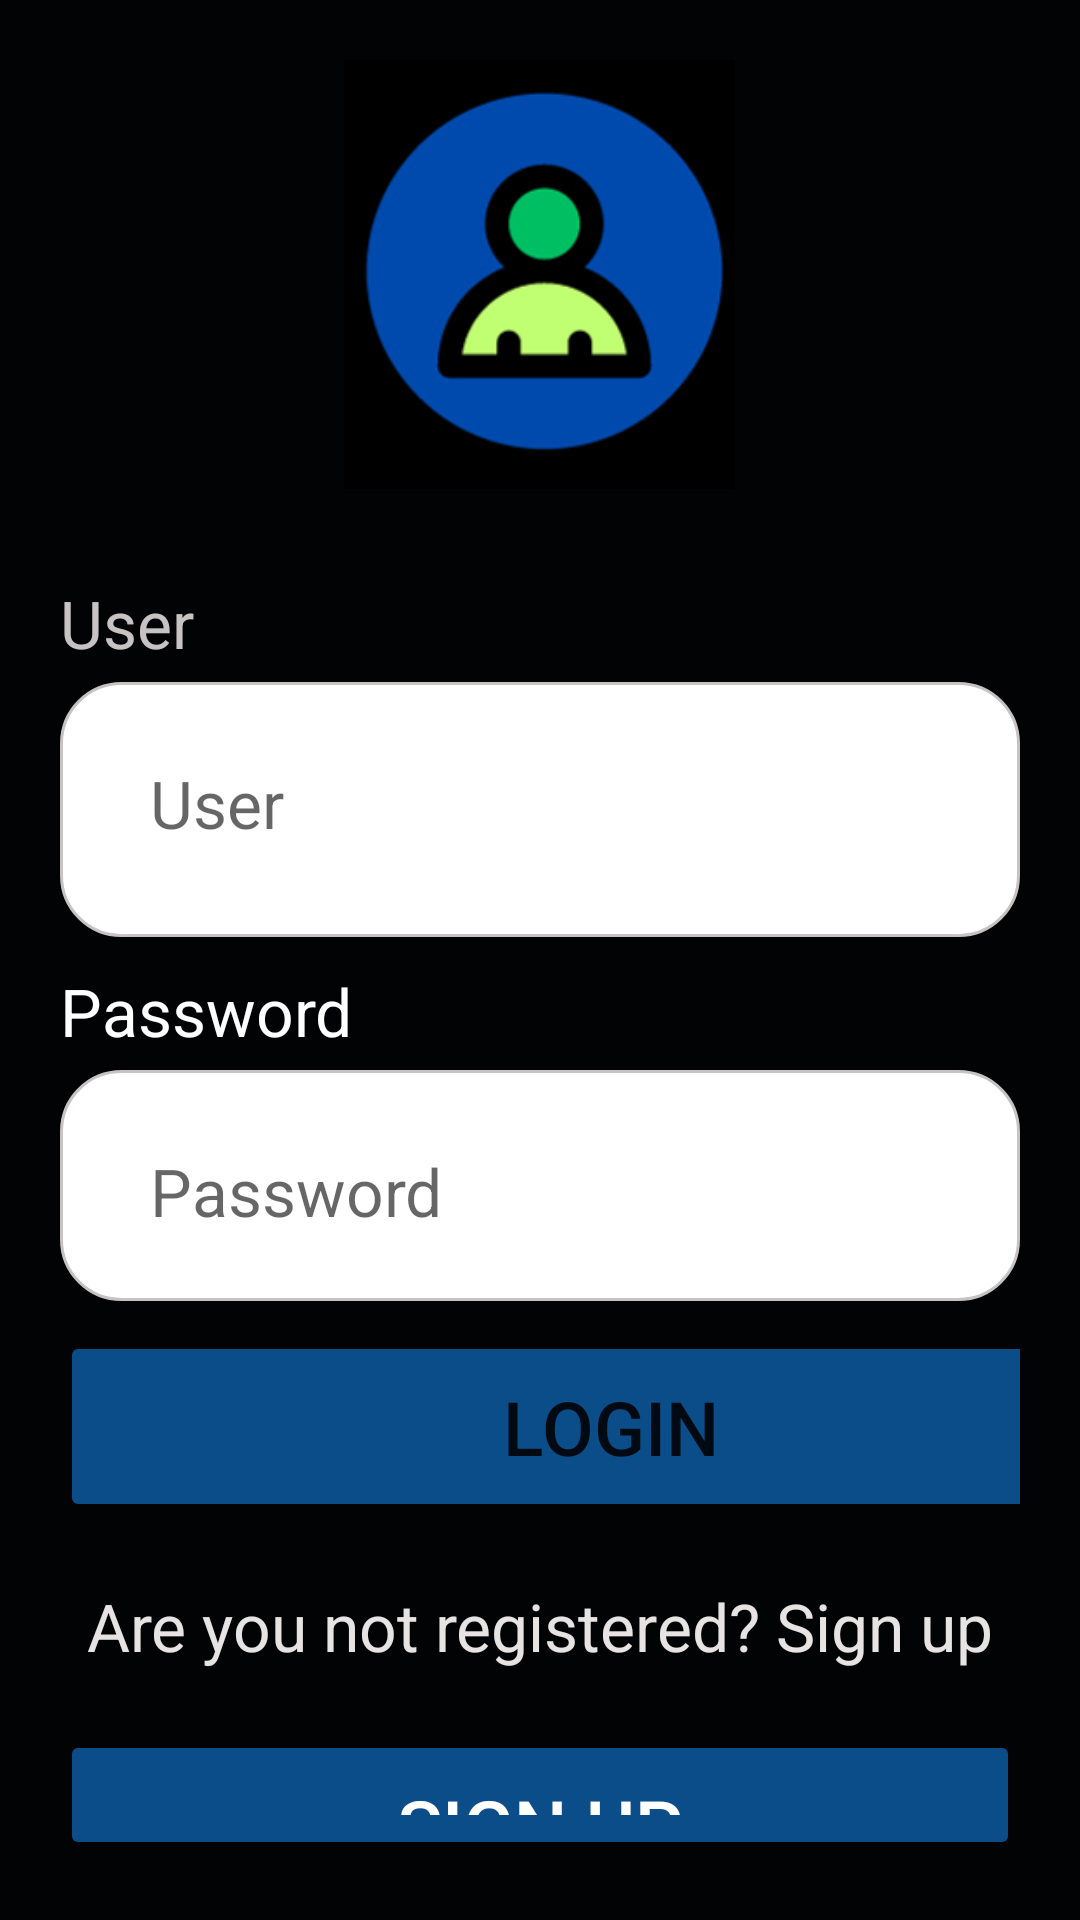

Screen size 1080*1920. Icon name, then its box in pixels as detection(x1, y1, x2, y2):
foto login: detection(366, 92, 723, 450)
